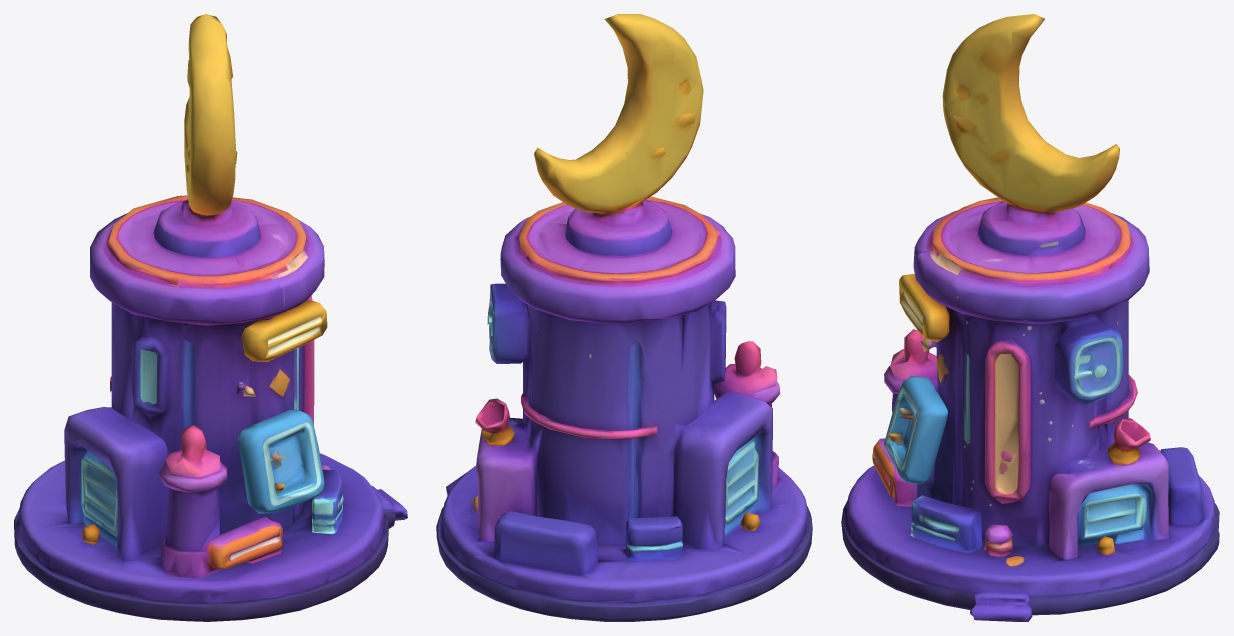
File: moon_tower.glb
The picture shows the model from 3 angles, left to right: view 1: azimuth 30°, elevation 25°; view 2: azimuth 150°, elevation 25°; view 3: azimuth 270°, elevation 25°; orthographic projection.
Parts seen in each view (by area): view 1: tripo_node_08ff2c37-b175-44a3-b048-5aaa2d3b0153; view 2: tripo_node_08ff2c37-b175-44a3-b048-5aaa2d3b0153; view 3: tripo_node_08ff2c37-b175-44a3-b048-5aaa2d3b0153.
Boxes of the visible parts, x1=… form: tripo_node_08ff2c37-b175-44a3-b048-5aaa2d3b0153: x1=14, y1=14, x2=407, y2=621; tripo_node_08ff2c37-b175-44a3-b048-5aaa2d3b0153: x1=436, y1=14, x2=812, y2=621; tripo_node_08ff2c37-b175-44a3-b048-5aaa2d3b0153: x1=841, y1=14, x2=1219, y2=621.
Size of the model in its own units: 0.6737 by 1 by 0.6476.
Materials: 1 (1 with a texture image).
